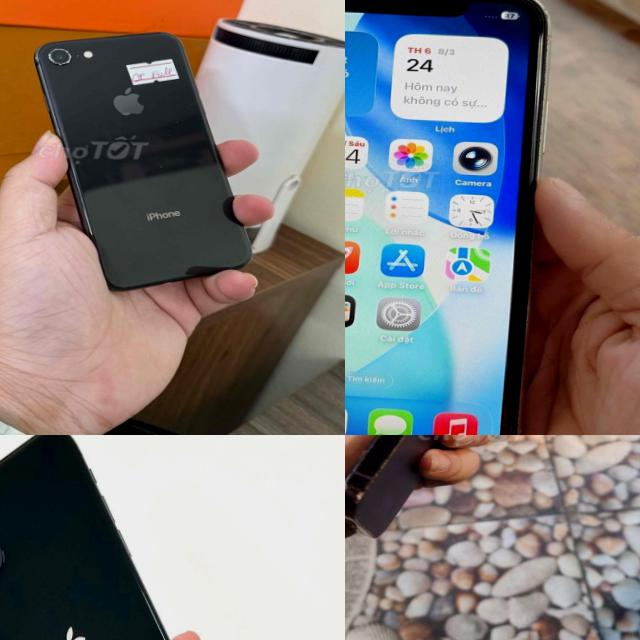gen_11: (345, 0, 539, 435), (0, 435, 248, 640)
gen_14: (345, 435, 450, 537)
gen_7_8: (26, 26, 260, 297)
